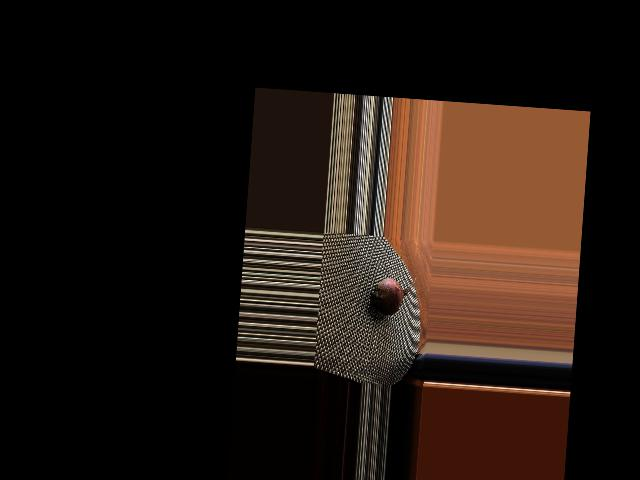beet: (366, 270, 415, 322)
